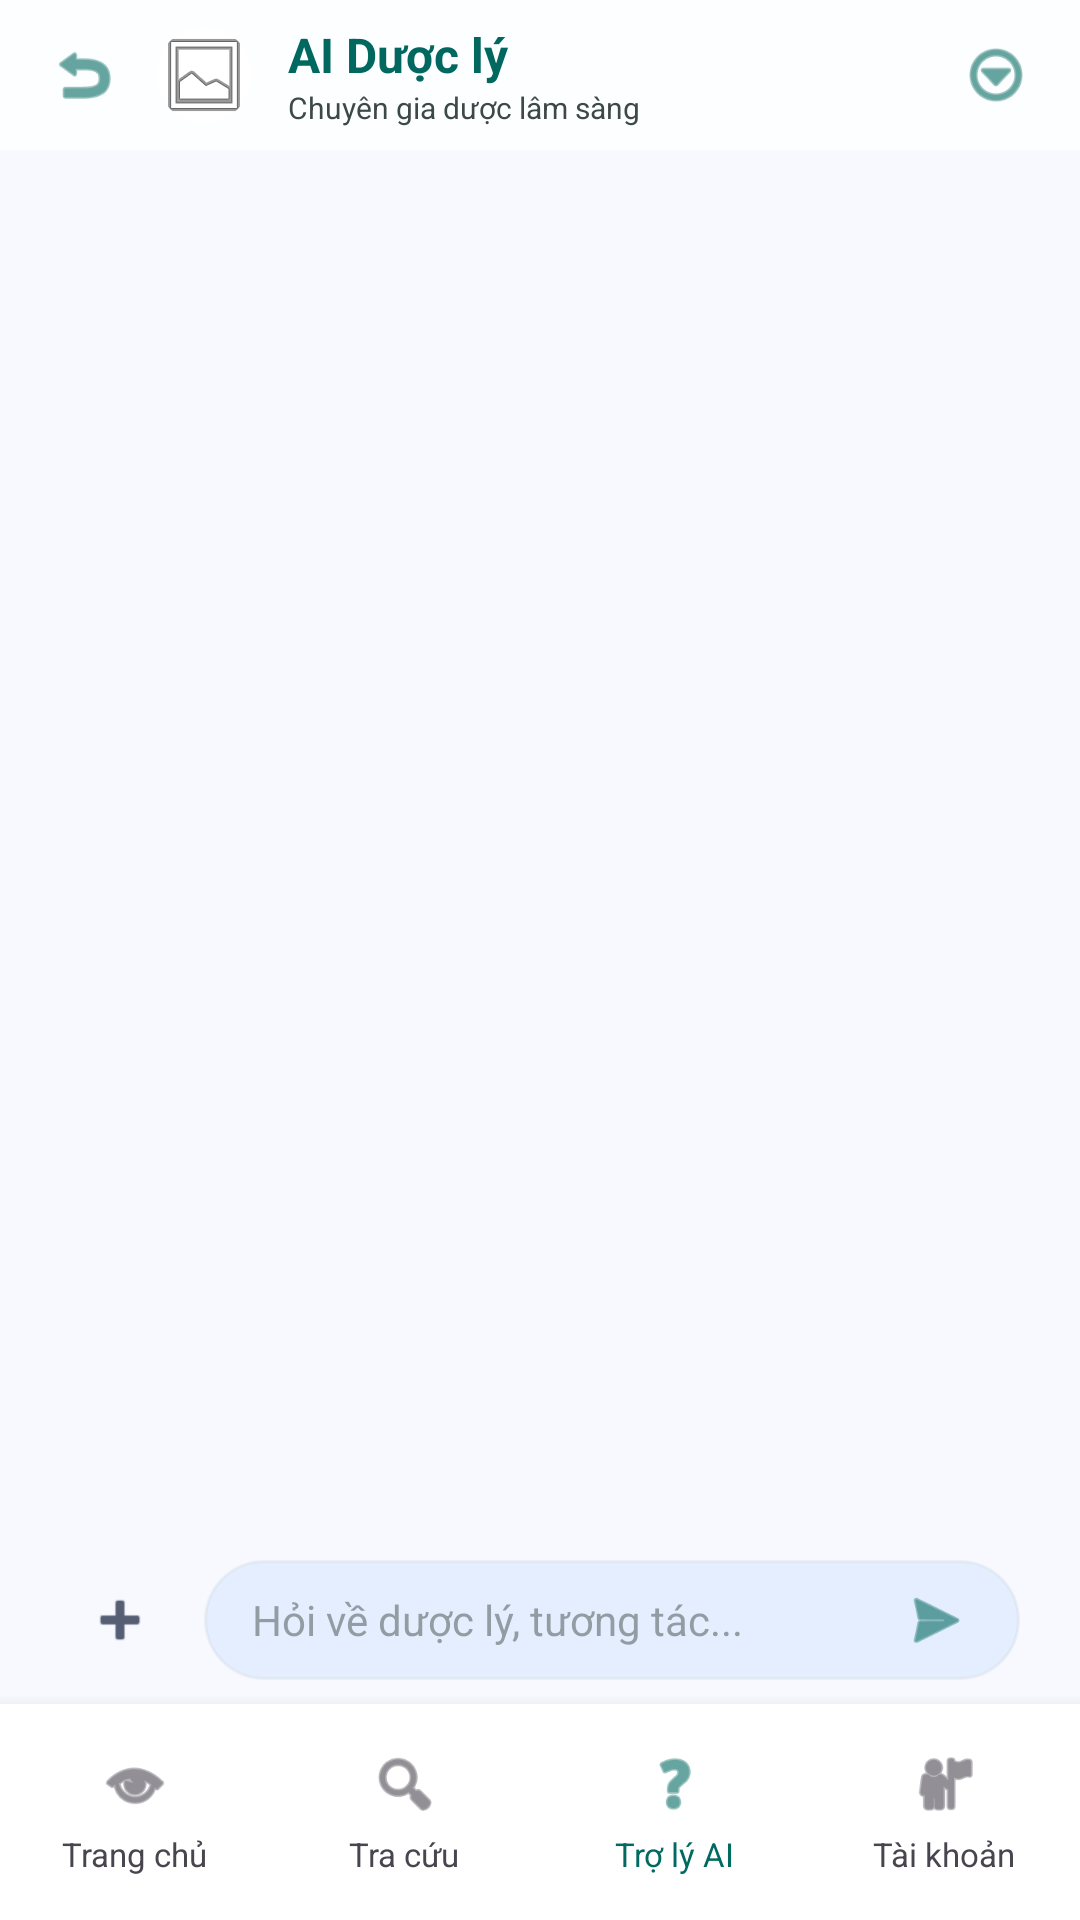

Icon bounding boxes for this 1080 × 1920 phone screenshot, format Rect(x1, y1, x2, y2):
add: Rect(100, 1600, 140, 1640)
gallery: Rect(168, 39, 240, 111)
help: Rect(659, 1758, 691, 1810)
more: Rect(969, 48, 1023, 102)
myplaces: Rect(919, 1757, 973, 1811)
revert: Rect(59, 52, 111, 99)
send: Rect(914, 1598, 960, 1643)
view: Rect(106, 1767, 164, 1804)
